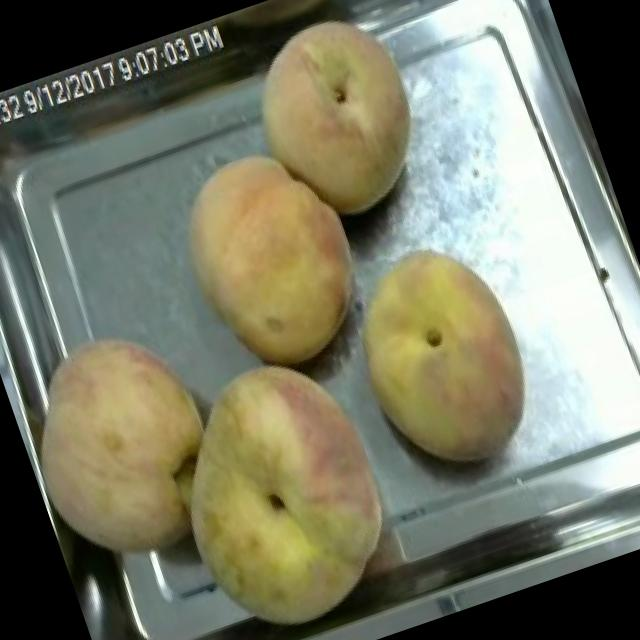Fruit: (120, 324, 430, 640), (0, 300, 255, 587), (318, 215, 564, 496), (152, 124, 392, 397), (218, 0, 455, 247)
